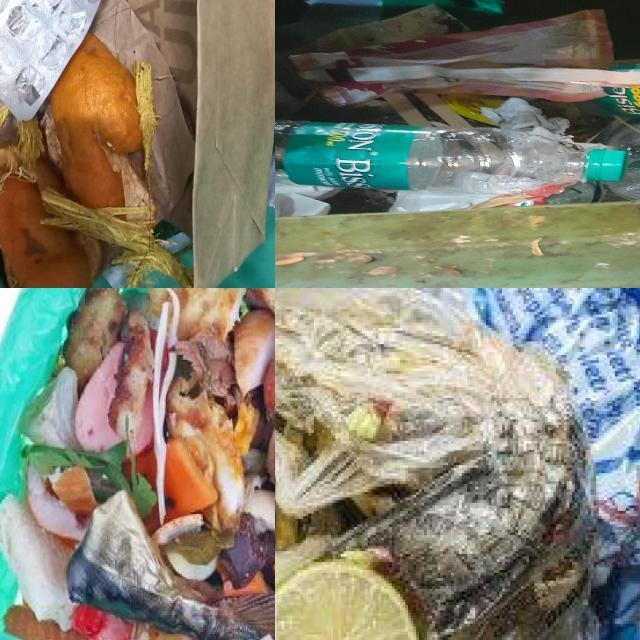Garbage: (275, 288, 640, 640), (0, 288, 275, 640), (275, 0, 640, 218)
Plastic_bottle: (275, 121, 627, 195)
Plastic_wraper: (290, 9, 640, 104), (308, 4, 470, 53), (390, 183, 572, 213), (440, 93, 508, 125)
contaminated_waste: (275, 288, 587, 640), (487, 288, 640, 439)
